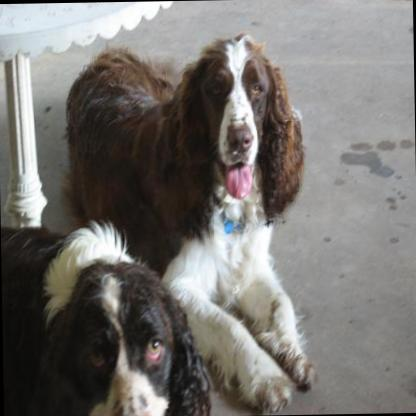English_springer: (61, 30, 316, 416), (0, 217, 213, 416)
